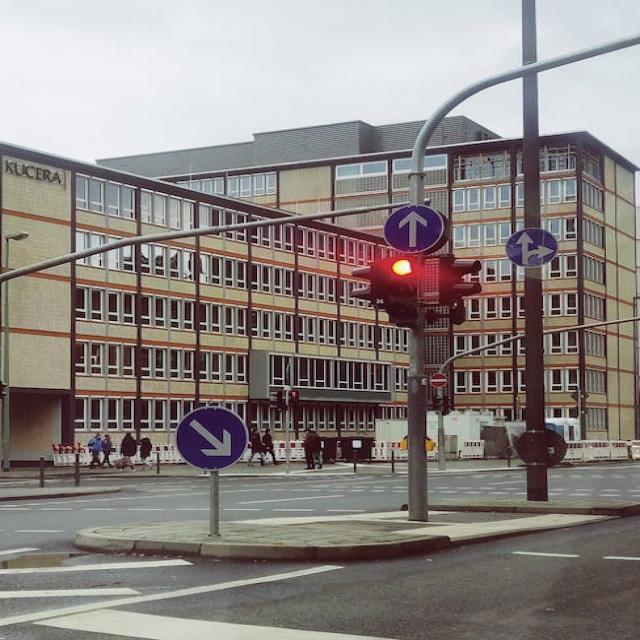no entry: (430, 373, 448, 387)
